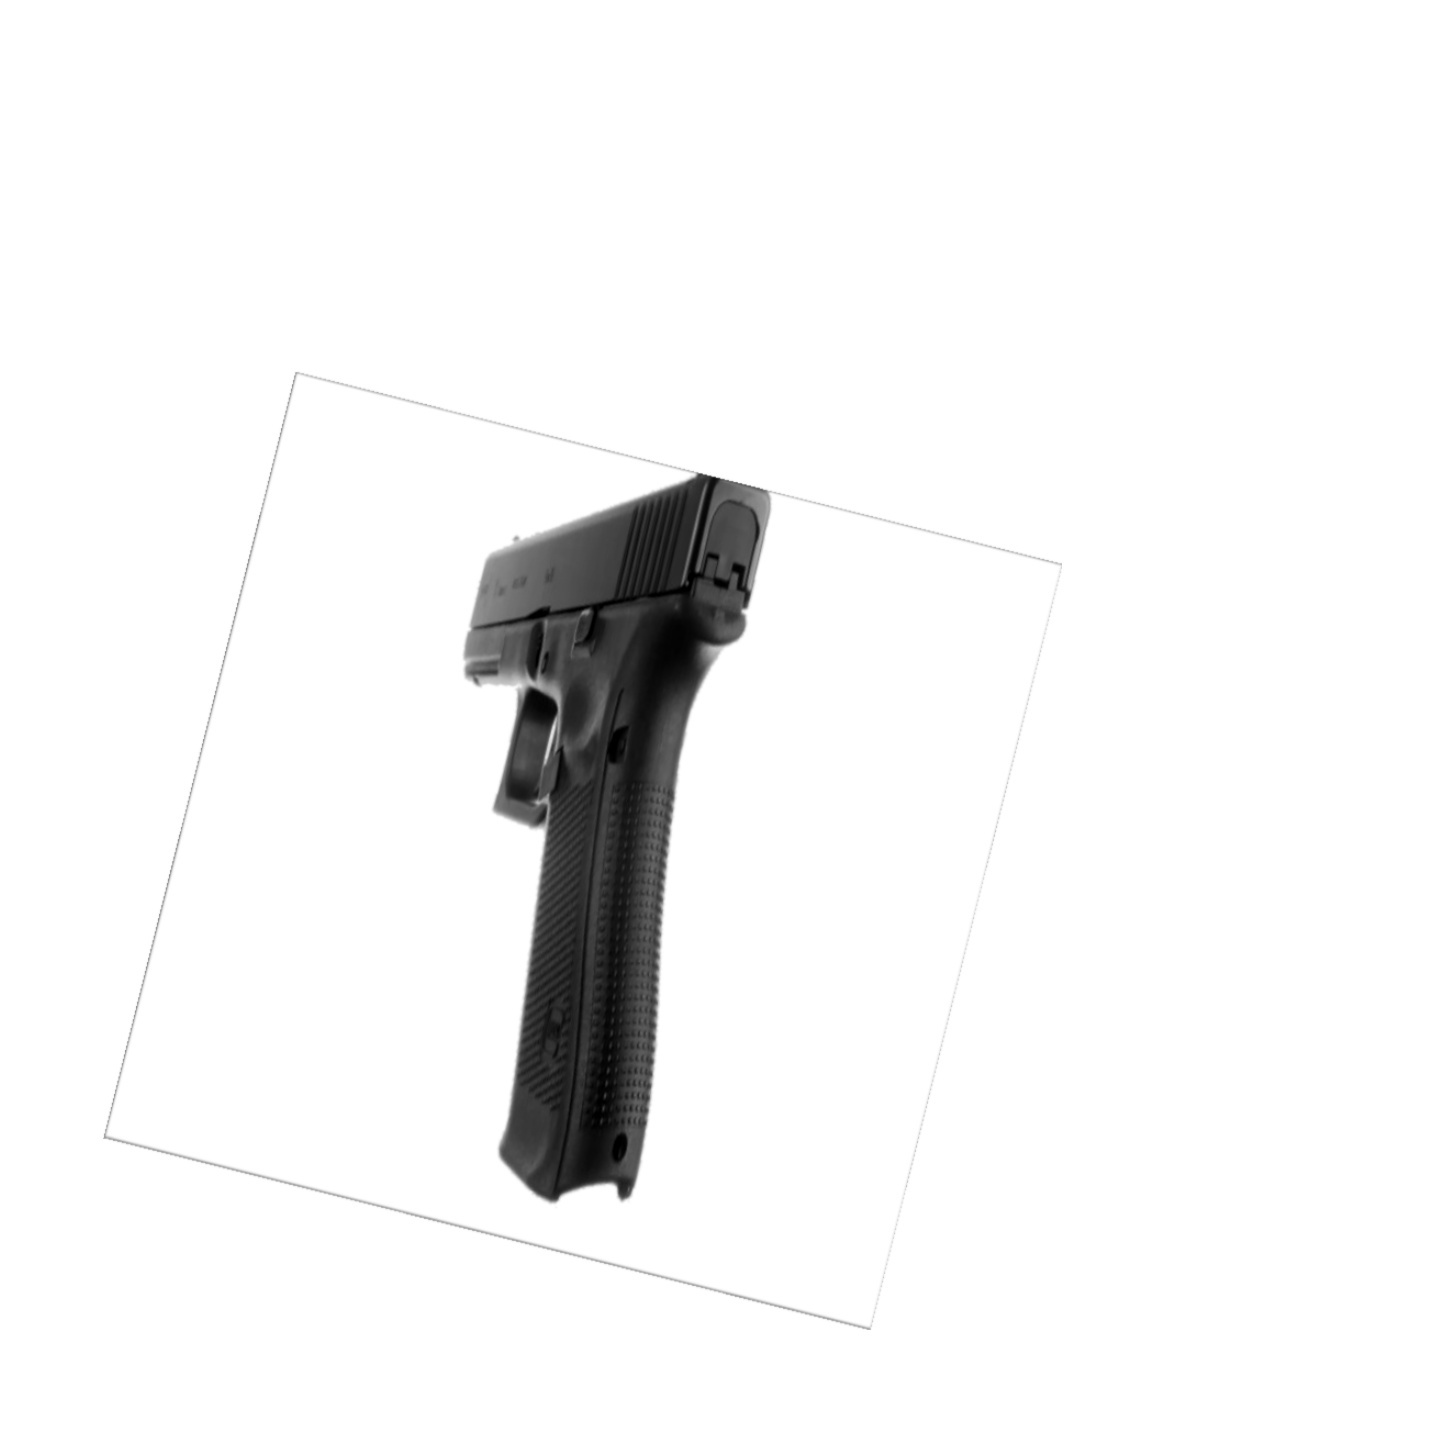gun: (452, 469, 784, 1221)
